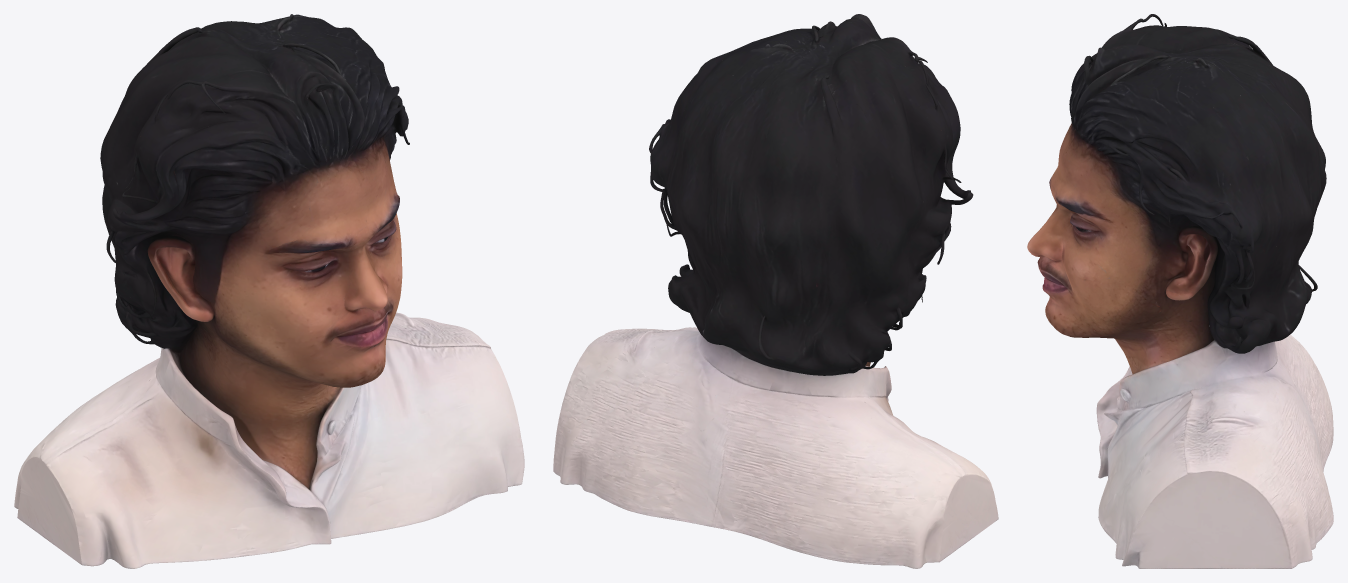
File: mathayi_shaded.glb
The picture shows the model from 3 angles, left to right: view 1: azimuth 30°, elevation 25°; view 2: azimuth 150°, elevation 25°; view 3: azimuth 270°, elevation 25°; orthographic projection. The views are drawn at different scales.
Visible parts, largest first — view 1: model; view 2: model; view 3: model.
Boxes of the visible parts, x1=… form: model: x1=14, y1=14, x2=524, y2=568; model: x1=553, y1=14, x2=998, y2=568; model: x1=1027, y1=14, x2=1333, y2=568.
Bounding box in the file's own units: 1.73 × 1.89 × 1.24.
1 material, 1 textured.
